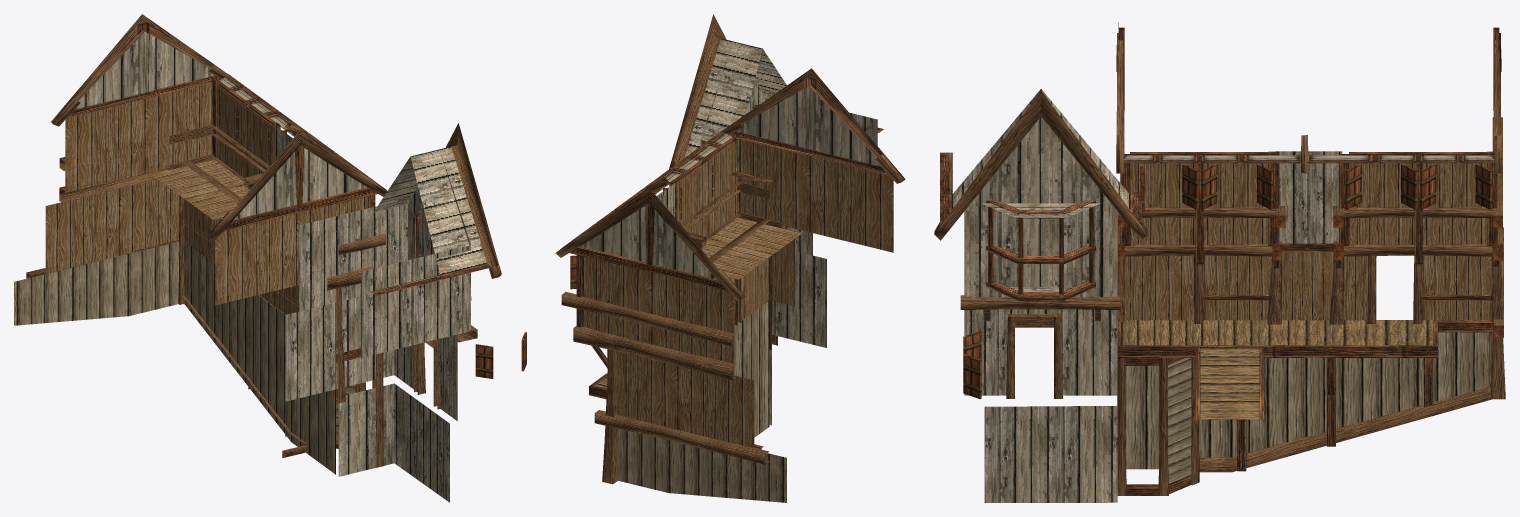
File: LAKETOWN_EXTERIOR_PS_LT_BACK_BLOCK88__GX.fbx
3 renders of one model, left to right at view 1: azimuth 30°, elevation 25°; view 2: azimuth 150°, elevation 25°; view 3: azimuth 270°, elevation 25°, orthographic. The views are drawn at different scales.
Parts seen in each view (by area): view 1: LAKETOWN_EXTERIOR_PS_LT_BACK_BLOCK88__GX; view 2: LAKETOWN_EXTERIOR_PS_LT_BACK_BLOCK88__GX; view 3: LAKETOWN_EXTERIOR_PS_LT_BACK_BLOCK88__GX.
Boxes of the visible parts, x1=… form: LAKETOWN_EXTERIOR_PS_LT_BACK_BLOCK88__GX: x1=14, y1=14, x2=526, y2=502; LAKETOWN_EXTERIOR_PS_LT_BACK_BLOCK88__GX: x1=555, y1=14, x2=905, y2=502; LAKETOWN_EXTERIOR_PS_LT_BACK_BLOCK88__GX: x1=934, y1=22, x2=1505, y2=502.
Size of the model in its own units: 124159 by 140458 by 167918.
13 materials, 13 textured.
